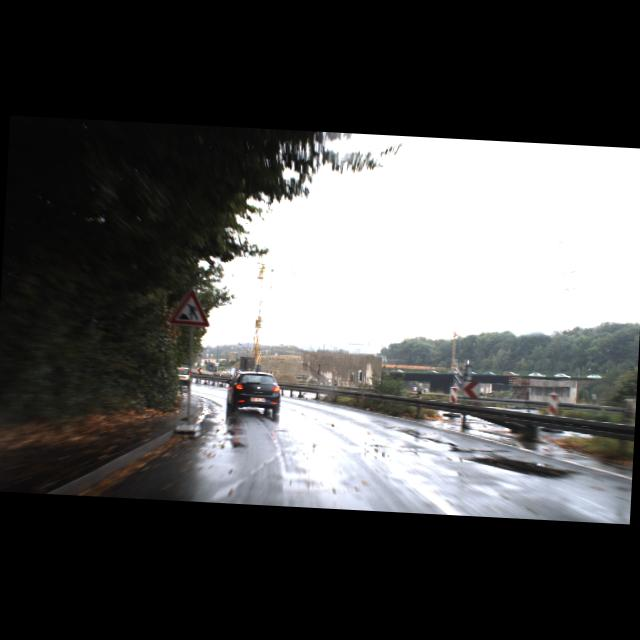danger: (169, 288, 212, 326)
